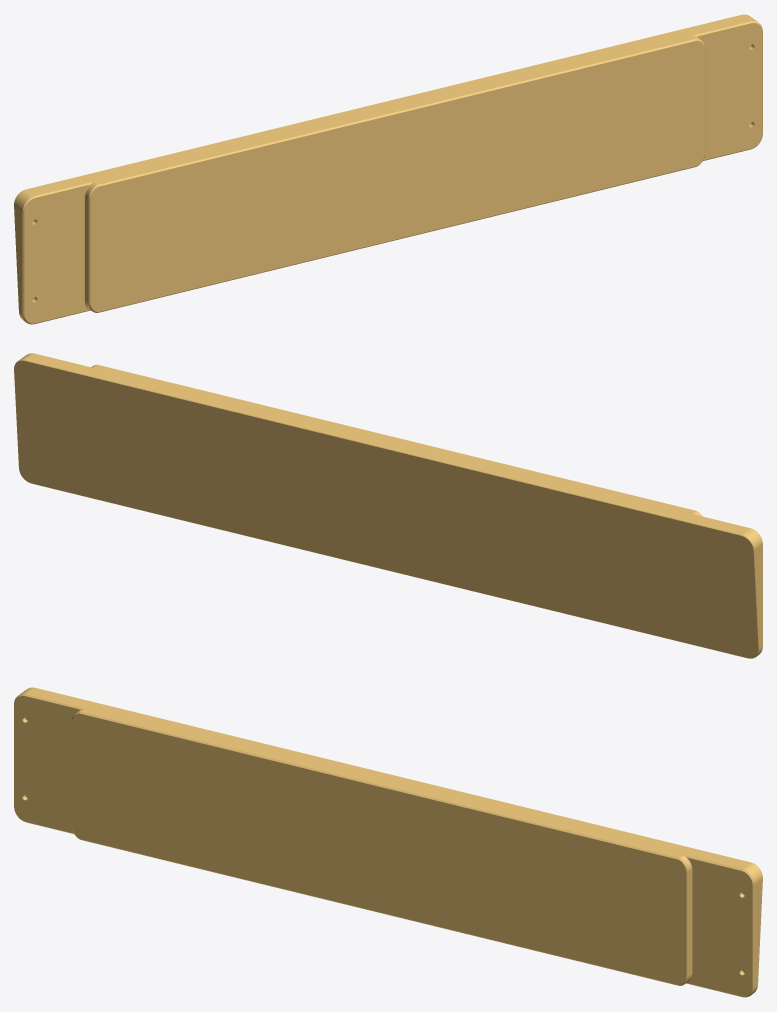
Rendered from Brass Weight.obj.
3 views of the same model, one above another, from view 1: azimuth 30°, elevation 25°; view 2: azimuth 150°, elevation 25°; view 3: azimuth 330°, elevation 25° (orthographic).
Visible parts, largest first — view 1: Weight; view 2: Weight; view 3: Weight.
Part boxes in pixels (left/top/right/bottom): Weight: left=14, top=14, right=762, bottom=324; Weight: left=14, top=353, right=762, bottom=658; Weight: left=14, top=687, right=762, bottom=997.
Bounding box in the file's own units: 29.95 × 4.95 × 1.01.
